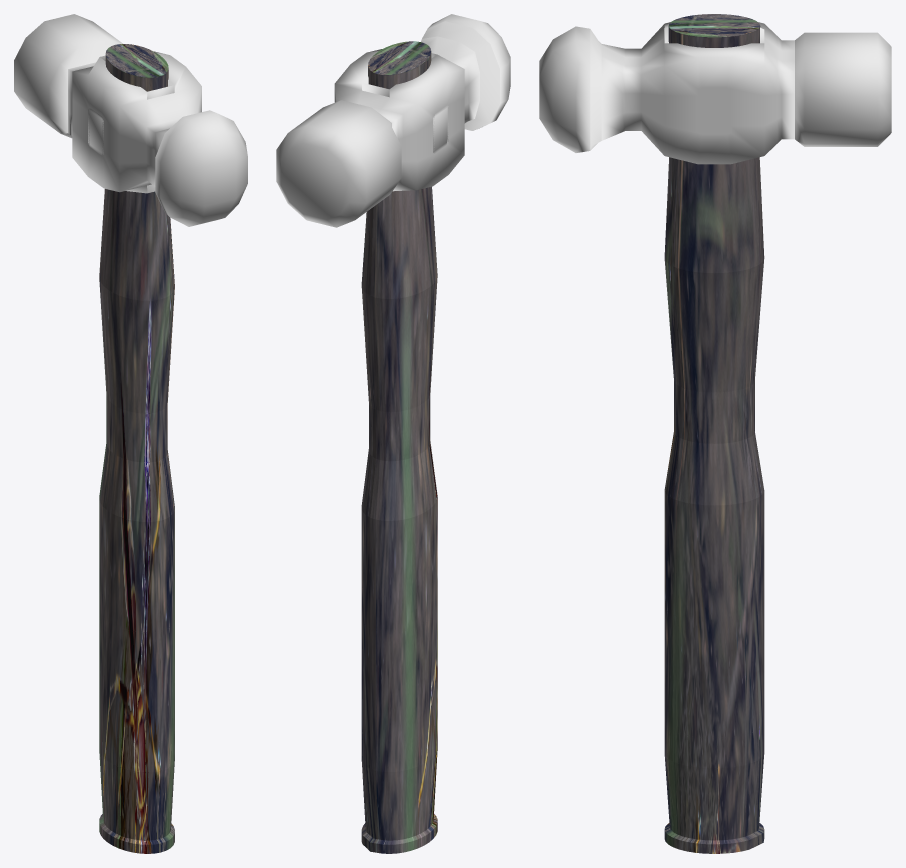
File: Hammer.glb
The picture shows the model from 3 angles, left to right: view 1: azimuth 30°, elevation 25°; view 2: azimuth 150°, elevation 25°; view 3: azimuth 270°, elevation 25°; orthographic projection. The views are drawn at different scales.
Parts seen in each view (by area): view 1: Cylinder, Cube; view 2: Cylinder, Cube; view 3: Cylinder, Cube.
Boxes of the visible parts, x1,y1,x2,y2 form: Cylinder: (99, 44, 174, 853); Cube: (14, 14, 247, 226); Cylinder: (361, 41, 437, 853); Cube: (276, 14, 510, 227); Cylinder: (664, 14, 764, 853); Cube: (539, 22, 891, 164).
Bounding box in the file's own units: 2.2 × 18.02 × 7.07.
Materials: 2 (1 with a texture image).
